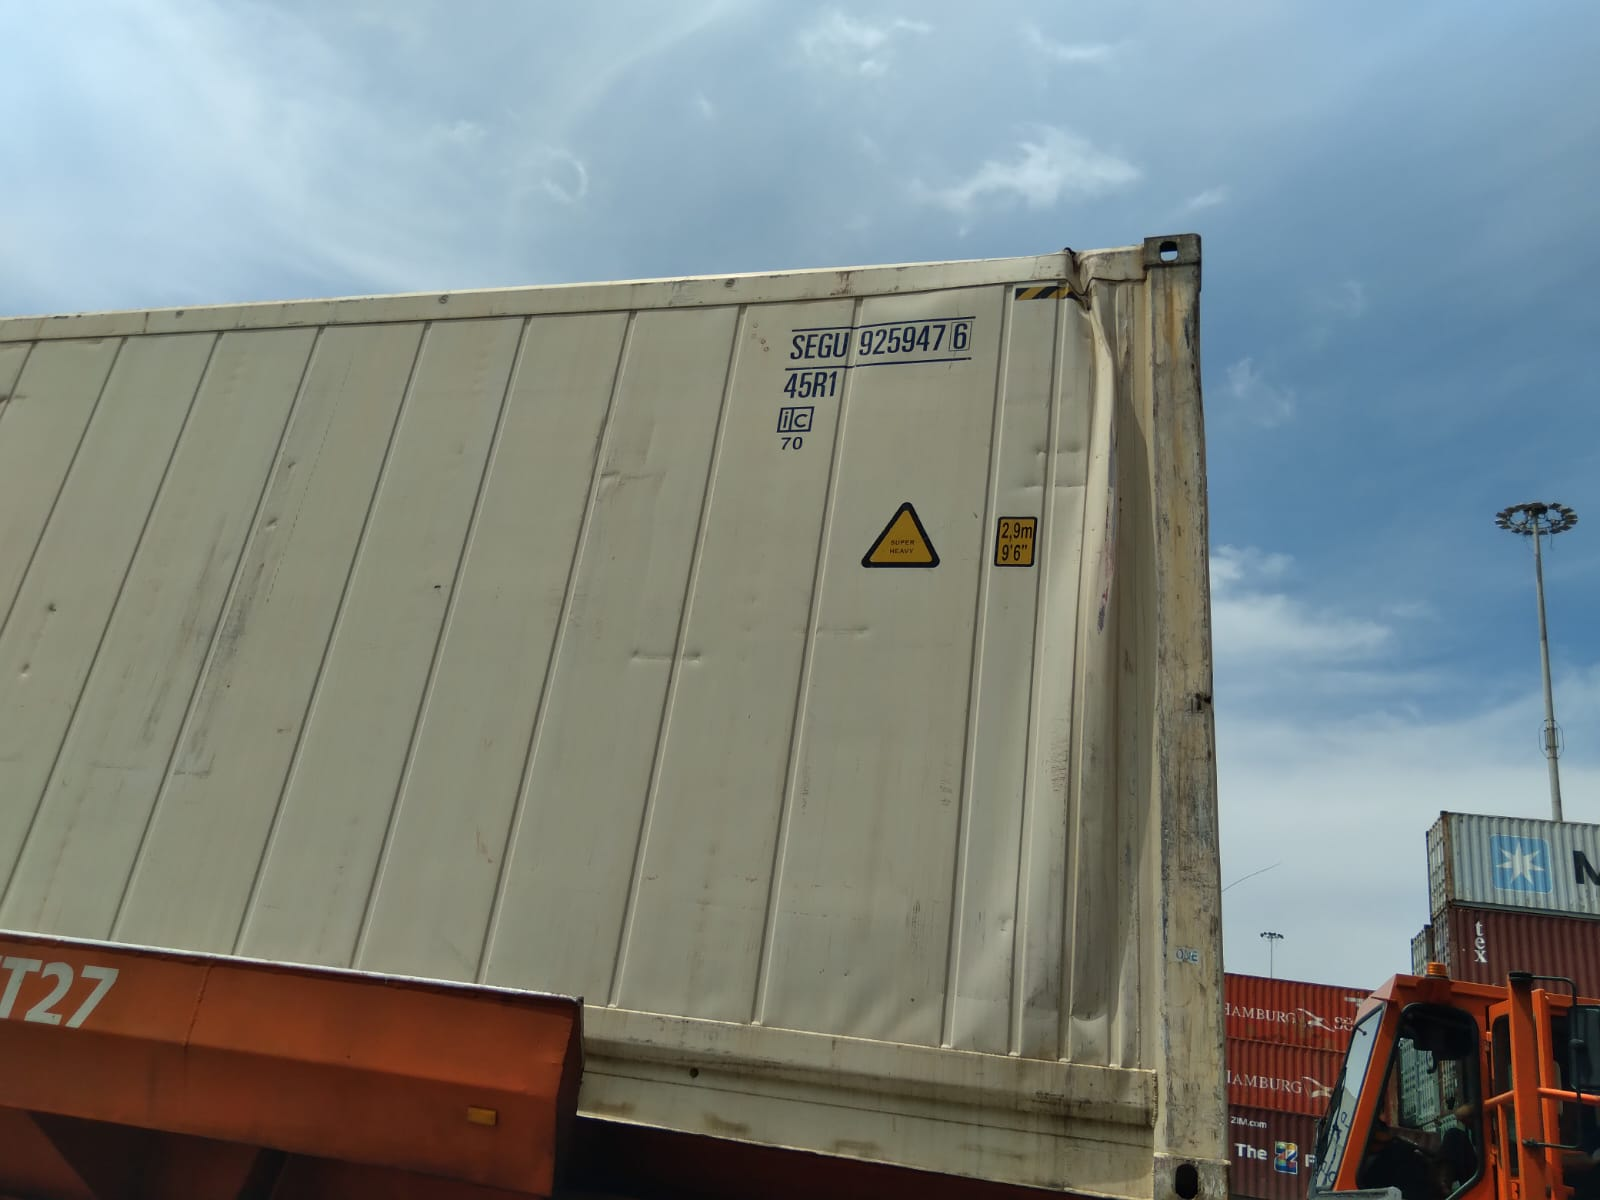moderate: (1031, 256, 1199, 1007)
